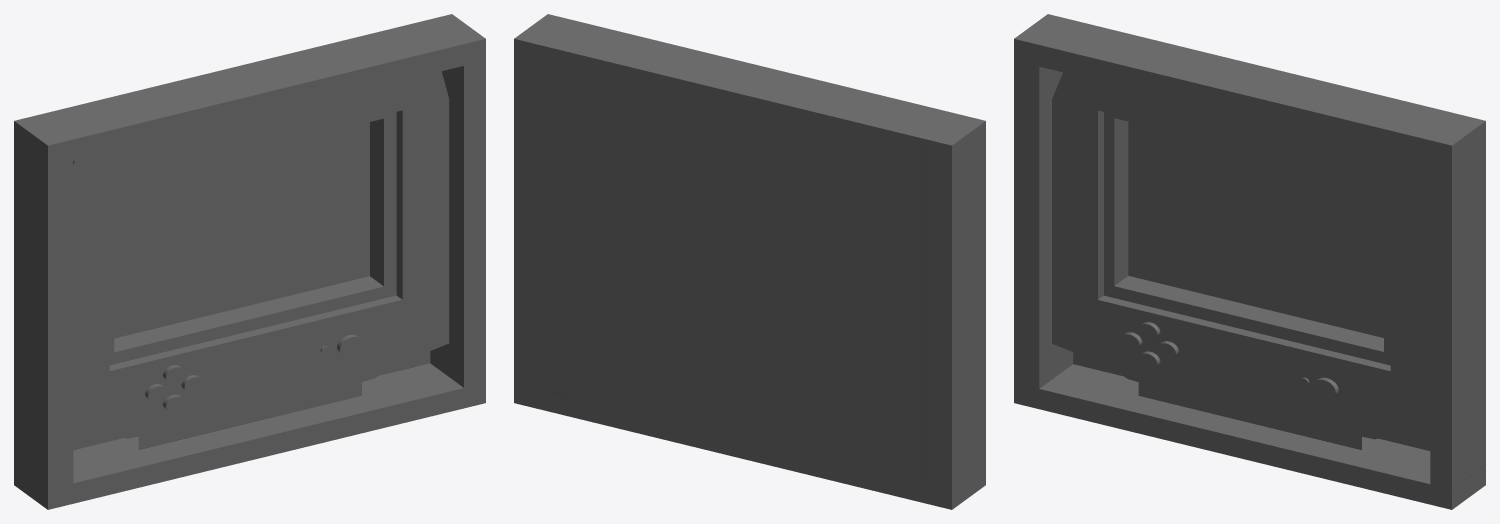
The model's file is computer screen.fbx.
The picture shows the model from 3 angles, left to right: view 1: azimuth 30°, elevation 25°; view 2: azimuth 150°, elevation 25°; view 3: azimuth 330°, elevation 25°; orthographic projection.
Visible parts, largest first — view 1: Plane; view 2: Plane; view 3: Plane.
Part boxes in pixels (bbox=[...]): Plane: bbox=[14, 14, 485, 509]; Plane: bbox=[514, 14, 985, 509]; Plane: bbox=[1014, 14, 1485, 509].
Size of the model in its own units: 1493 by 1187 by 200.
1 material, 1 textured.
